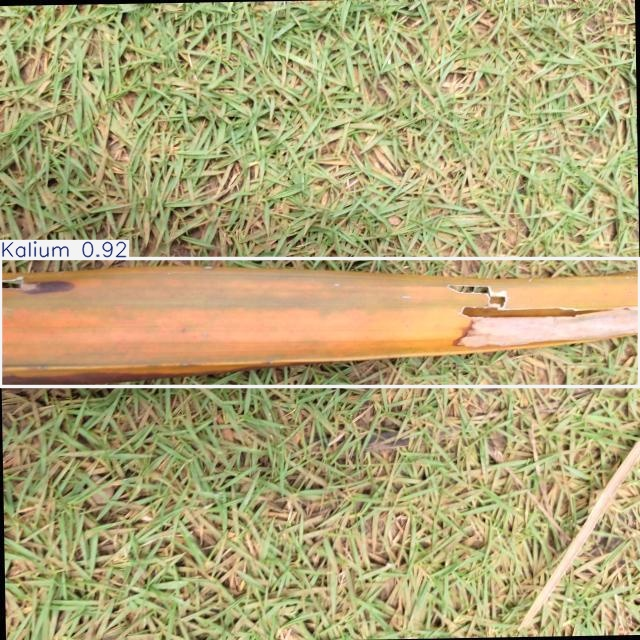Kalium: (0, 258, 639, 386)
